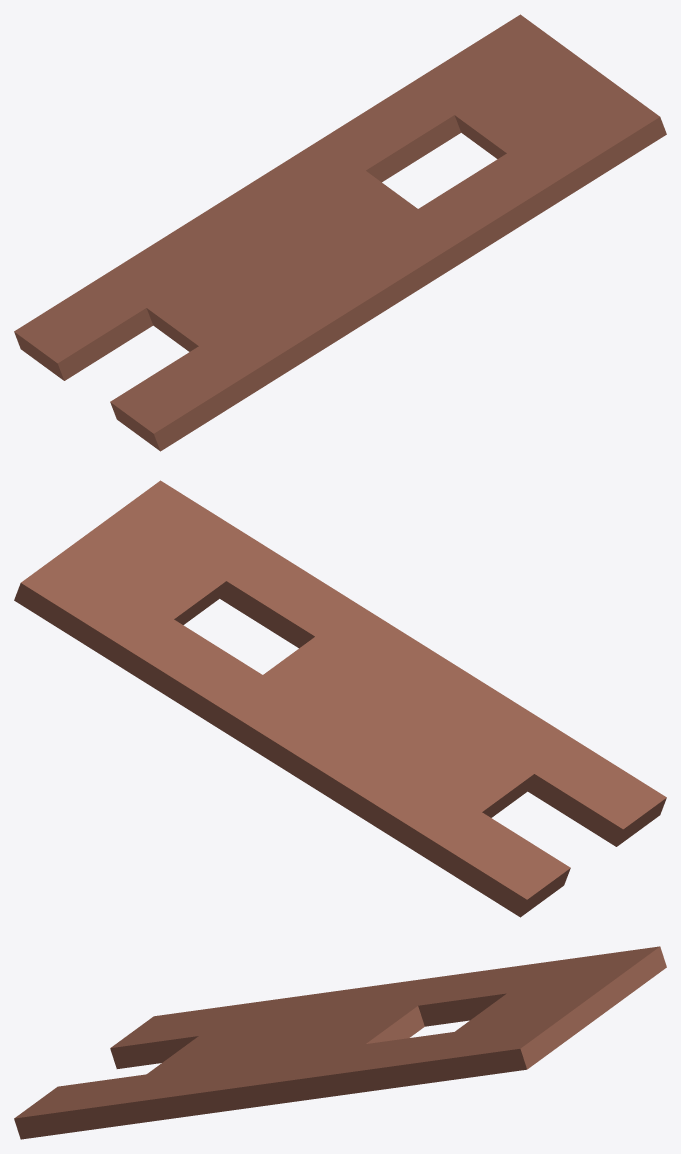
File: SARM_SAR_Building_URB_003_Wall_N_01.glb
The picture shows the model from 3 angles, top to bottom: view 1: azimuth 30°, elevation 25°; view 2: azimuth 150°, elevation 25°; view 3: azimuth 330°, elevation 25°; orthographic projection.
Visible parts, largest first — view 1: SAR_Building_URB_003_Wall_N_01.001; view 2: SAR_Building_URB_003_Wall_N_01.001; view 3: SAR_Building_URB_003_Wall_N_01.001.
Part boxes in pixels (<box>): SAR_Building_URB_003_Wall_N_01.001: <box>14,14,666,451</box>; SAR_Building_URB_003_Wall_N_01.001: <box>14,480,666,917</box>; SAR_Building_URB_003_Wall_N_01.001: <box>14,946,666,1139</box>.
Size of the model in its own units: 6.78 by 2.69 by 3.2.
